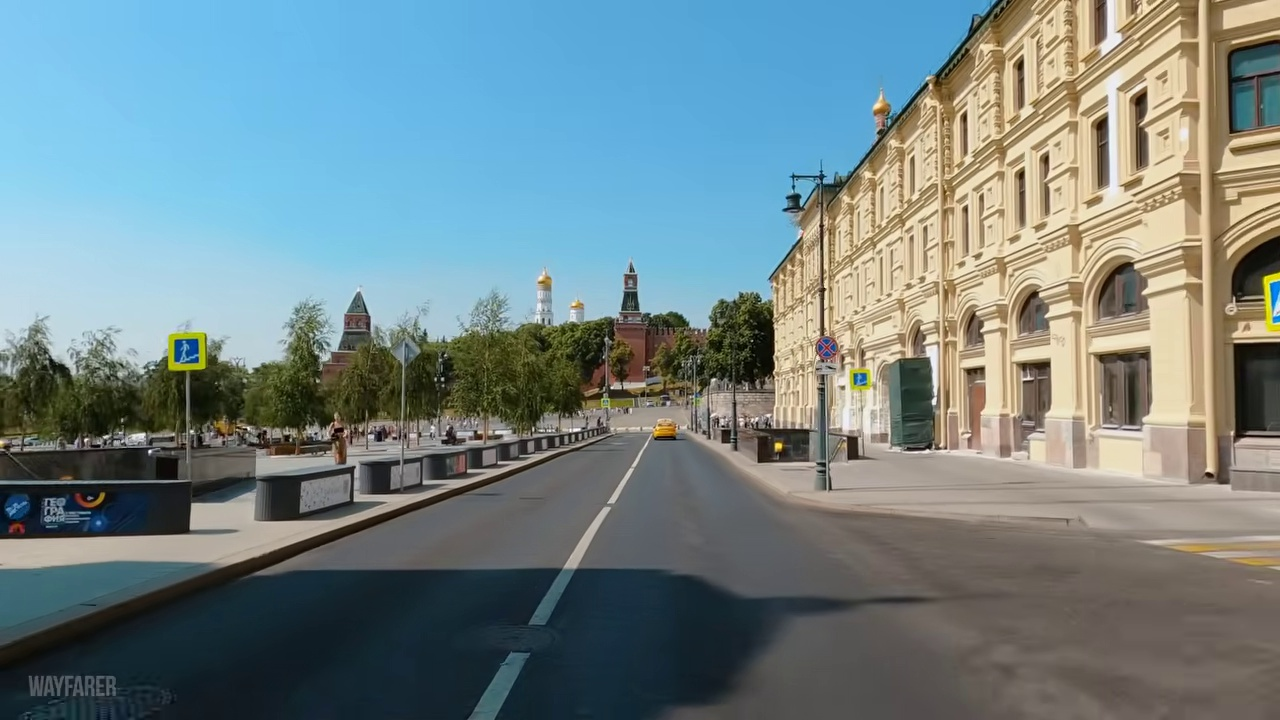acesa: (534, 271, 552, 293)
apagada: (782, 185, 808, 227)
